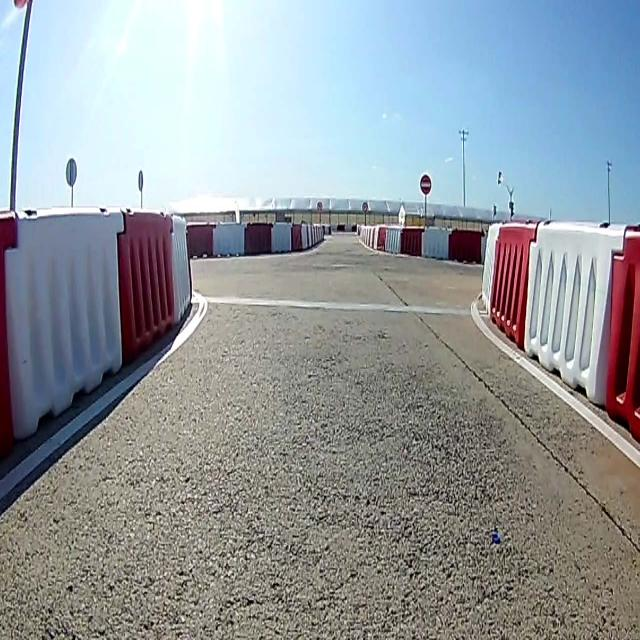girisyok: (418, 170, 433, 197)
